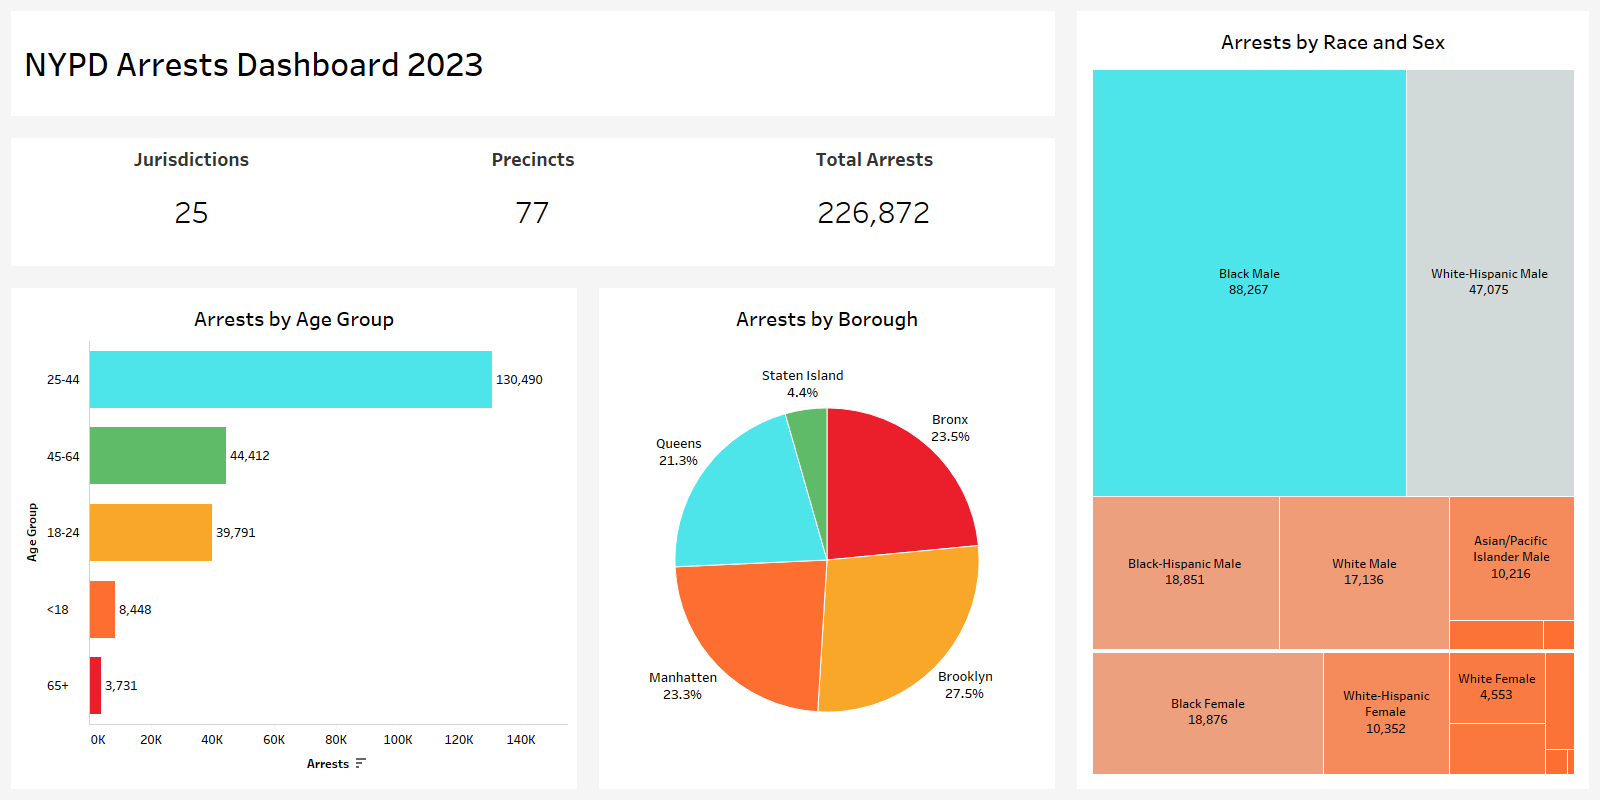

The page's visual inventory and layout, read from the dashboard file:
{"tool":"tableau","page":{"name":"Dashboard","canvas":[1600,800],"ordinal":0},"visuals":[{"type":"text","box":[0,0,1066,127]},{"type":"worksheet","title":"Arrests by Race and Sex","mark":"Automatic","box":[1066,0,534,800]},{"type":"legend","title":"Arrests by Borough","param":"[federated.1hw9kax0bk545i15hnjo80zekp9z].[none:arrestBoro:nk]","box":[1432,8,160,126]},{"type":"worksheet","title":"Metrics","mark":"Automatic","box":[0,127,1066,150]},{"type":"legend","title":"Arrests by Borough","param":"[federated.1hw9kax0bk545i15hnjo80zekp9z].[cnt:arrestBoro:qk]","box":[1432,134,160,22]},{"type":"filter","title":"Arrests by Race and Sex","param":"[federated.1hw9kax0bk545i15hnjo80zekp9z].[none:arrestBoro:nk]","box":[1432,156,160,146]},{"type":"worksheet","title":"Arrests by Age Group","mark":"Automatic","rows":["Calculation_937593156888641554","ageGroup"],"cols":["arrestKey"],"box":[0,277,588,523]},{"type":"worksheet","title":"Arrests by Borough","mark":"Pie","box":[588,277,478,523]},{"type":"legend","title":"Arrests by Race and Sex","param":"[federated.1hw9kax0bk545i15hnjo80zekp9z].[ctd:arrestKey:qk]","box":[1432,302,160,65]}]}

Visuals, with their boxes in screenshot pixels (x1, y1, x2, y2), scaled from the page's 1600x800 canvas onto the 1600x800 screenshot:
text: [x1=0, y1=0, x2=1066, y2=127]
"Arrests by Race and Sex" worksheet: [x1=1066, y1=0, x2=1599, y2=799]
"Arrests by Borough" legend: [x1=1432, y1=8, x2=1592, y2=134]
"Metrics" worksheet: [x1=0, y1=127, x2=1066, y2=277]
"Arrests by Borough" legend: [x1=1432, y1=134, x2=1592, y2=156]
"Arrests by Race and Sex" filter: [x1=1432, y1=156, x2=1592, y2=302]
"Arrests by Age Group" worksheet: [x1=0, y1=277, x2=588, y2=799]
"Arrests by Borough" worksheet (Pie marks): [x1=588, y1=277, x2=1066, y2=799]
"Arrests by Race and Sex" legend: [x1=1432, y1=302, x2=1592, y2=367]
